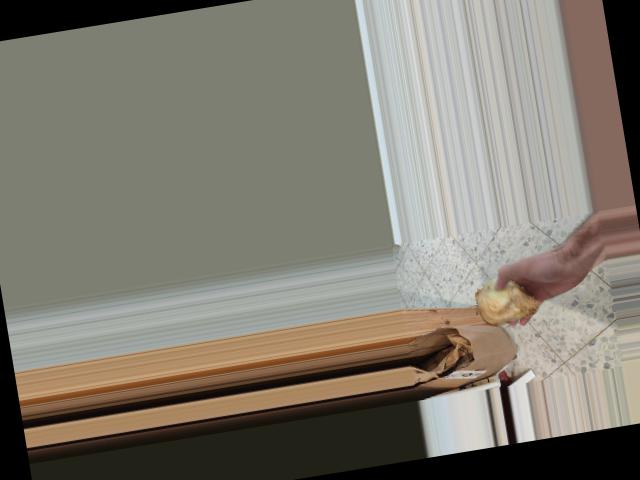onion: (469, 269, 544, 329)
